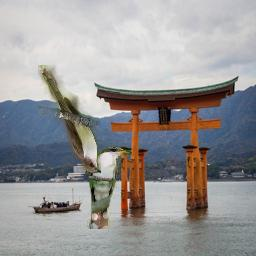Cuckoo: (39, 65, 102, 173), (88, 145, 133, 229)
